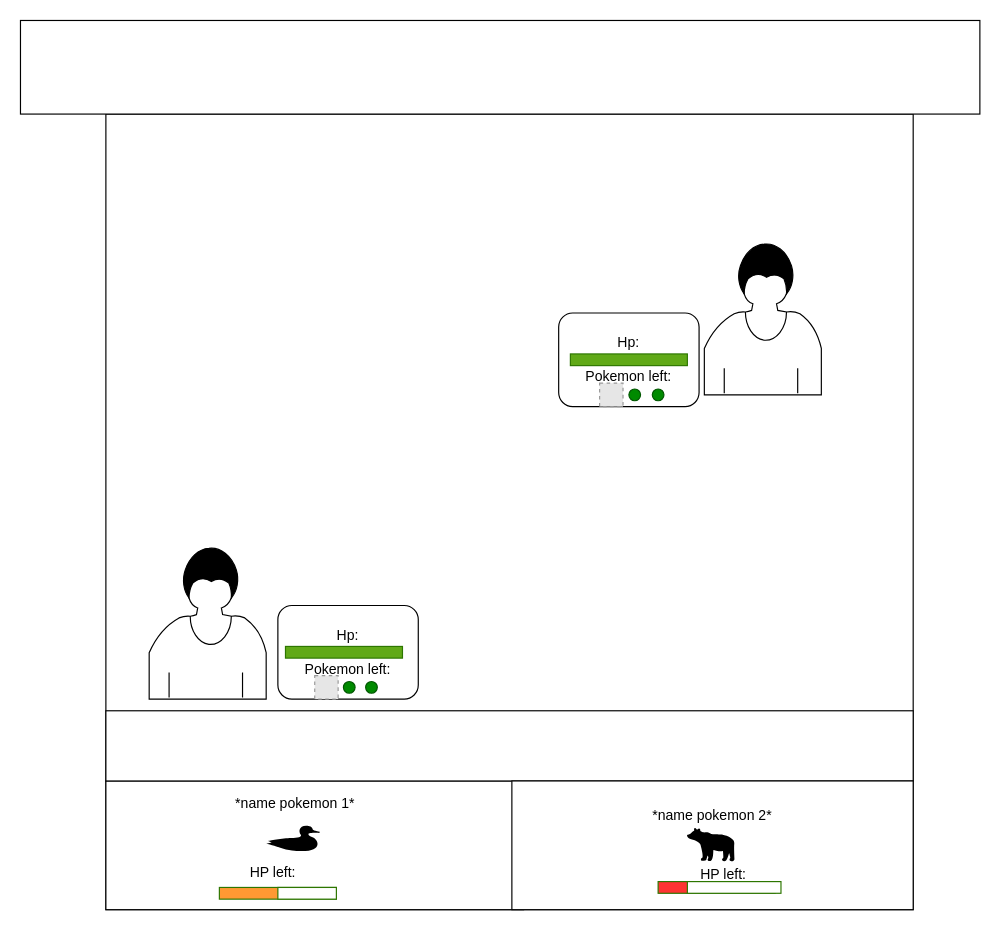
Some shapes in this 1000 by 930 pixel diagram are drawn without their labels. Grey dashed boxes stand in for pictures. The centre of each missing label's shape, as x and y in pixels:
Pokemon battle game: (499,66)
To which pokemon do you want to switch?: (509,745)
